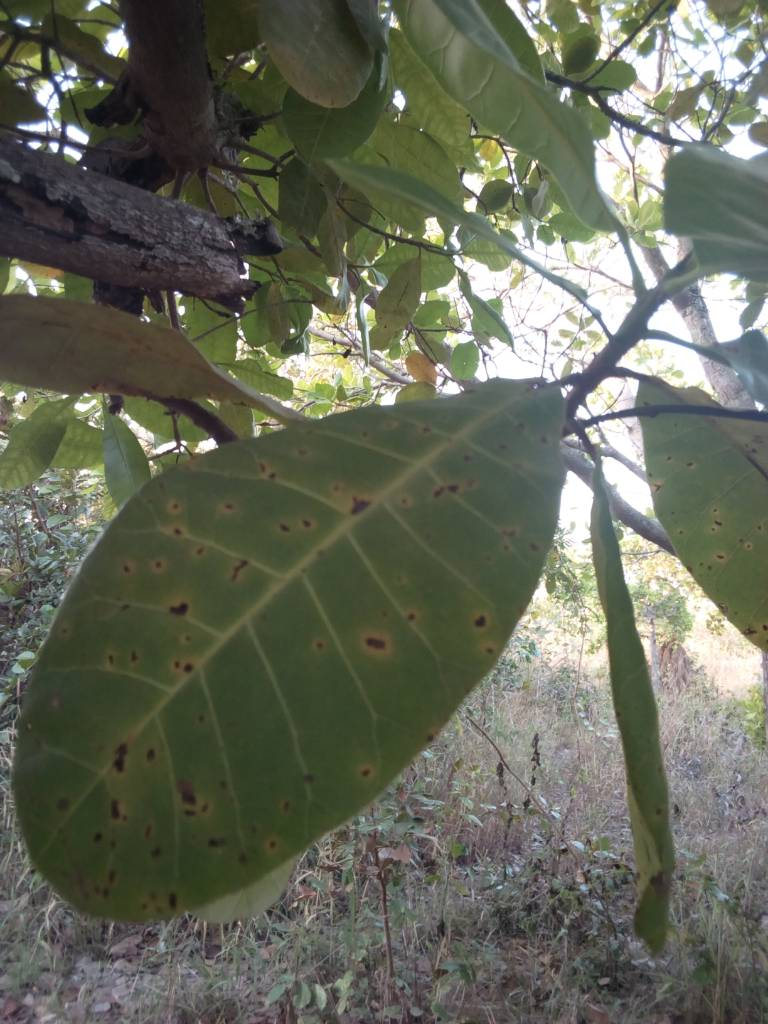Pestalotiose: (32, 396, 558, 921), (636, 382, 768, 650), (611, 639, 686, 958)
